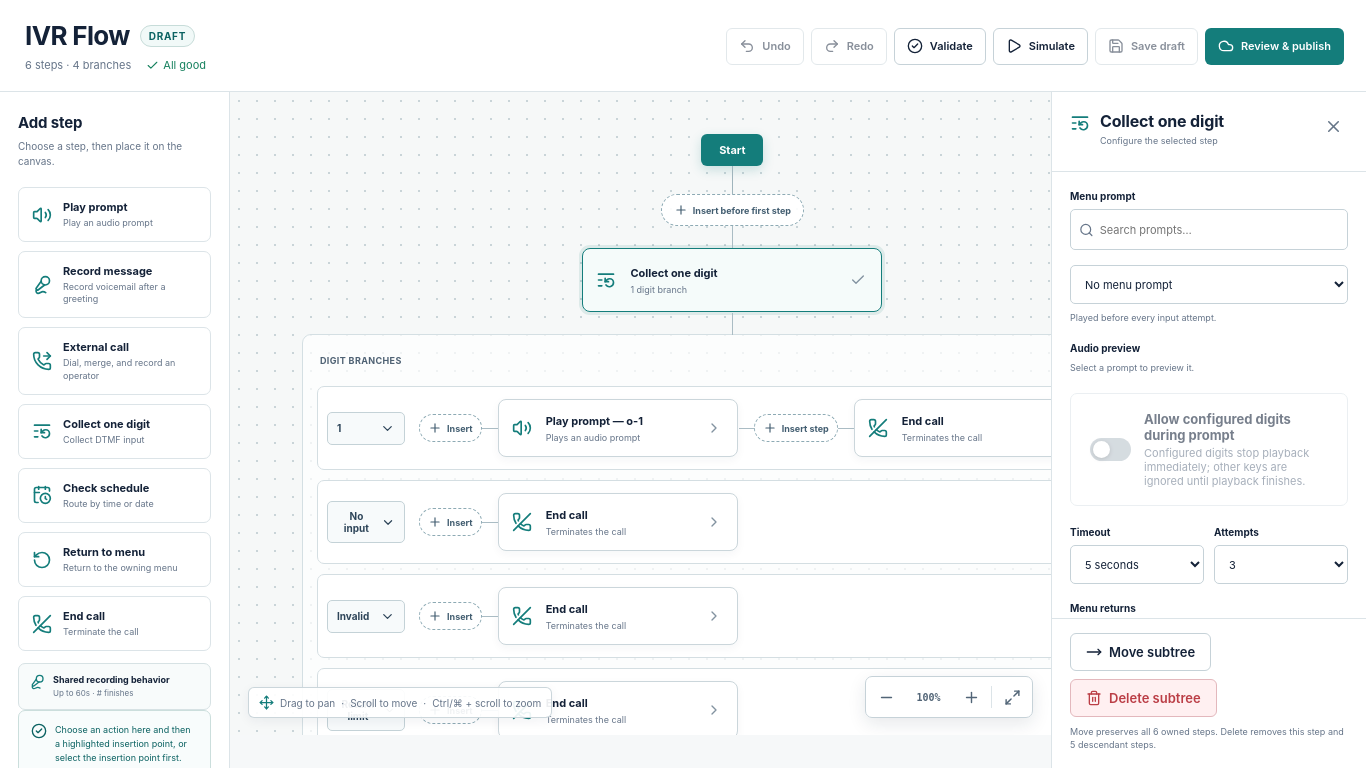
Test: Flow Studio V4 › removes a prompt from an existing branch and keeps its next action
Click the button with aria-label "Select Play prompt — o-1" at (618, 428), box x1=498 y1=399 x2=738 y2=457
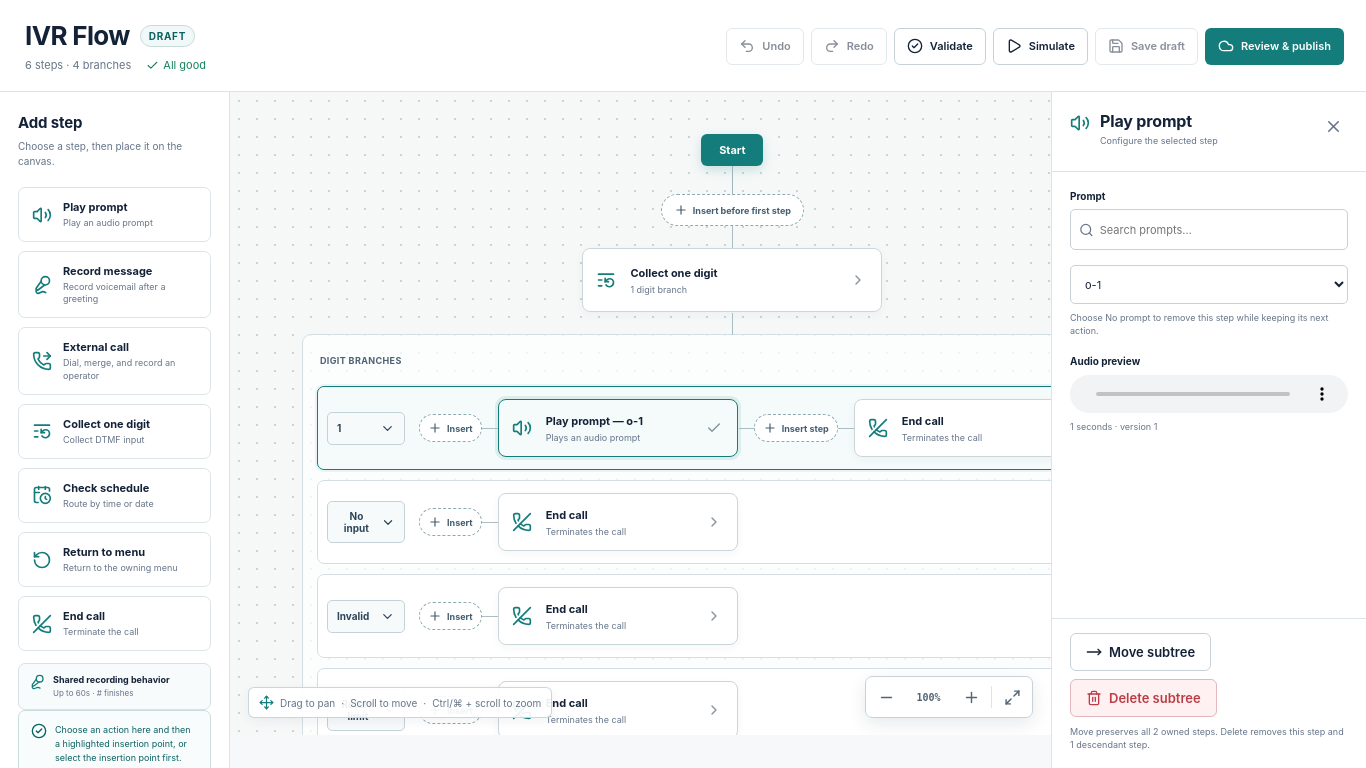
Select "No prompt" in the dropdown named "Prompt" at (1209, 284), box x1=1070 y1=265 x2=1348 y2=304
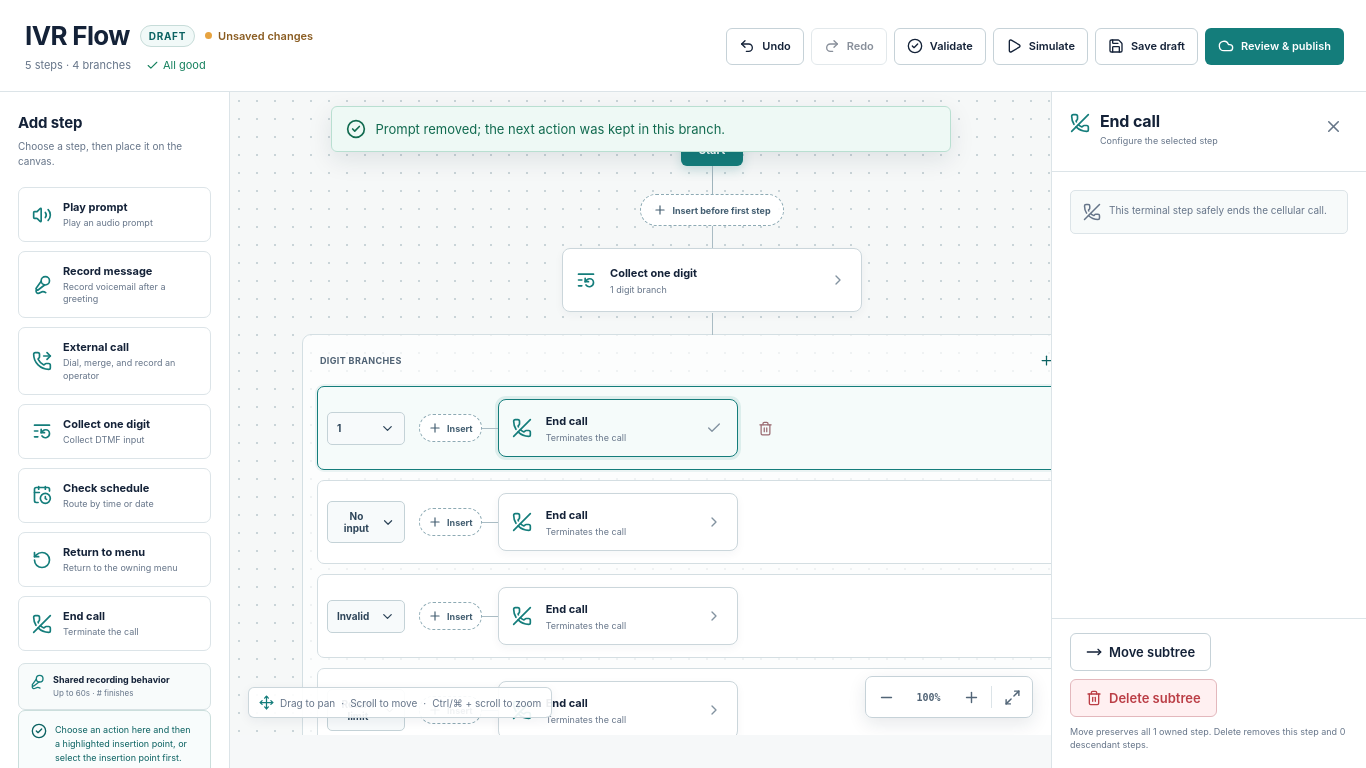
Expected: the button "Play prompt — o-1" is gone
Expected: the number of buttons named "Select End call" is 4, x1=498 y1=399 x2=738 y2=457; x1=498 y1=493 x2=738 y2=551; x1=498 y1=587 x2=738 y2=645; x1=498 y1=681 x2=738 y2=735
Expected: the text "5 steps · 4 branches" is shown, x1=25 y1=58 x2=131 y2=72
Click the button "Undo" at (765, 46), box x1=726 y1=28 x2=804 y2=64
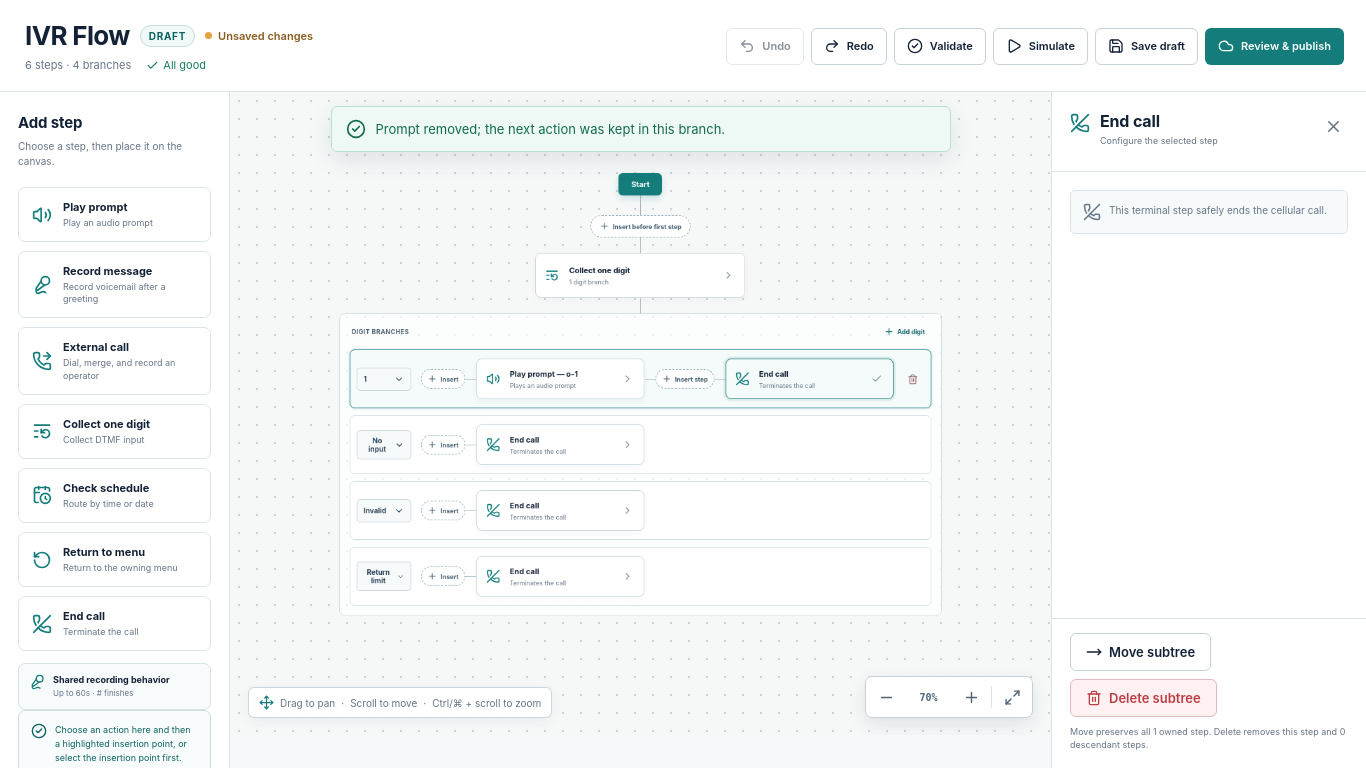
Expected: the text "Play prompt — o-1" is shown, x1=510 y1=369 x2=578 y2=378
Expected: the text "6 steps · 4 branches" is shown, x1=25 y1=58 x2=131 y2=72
